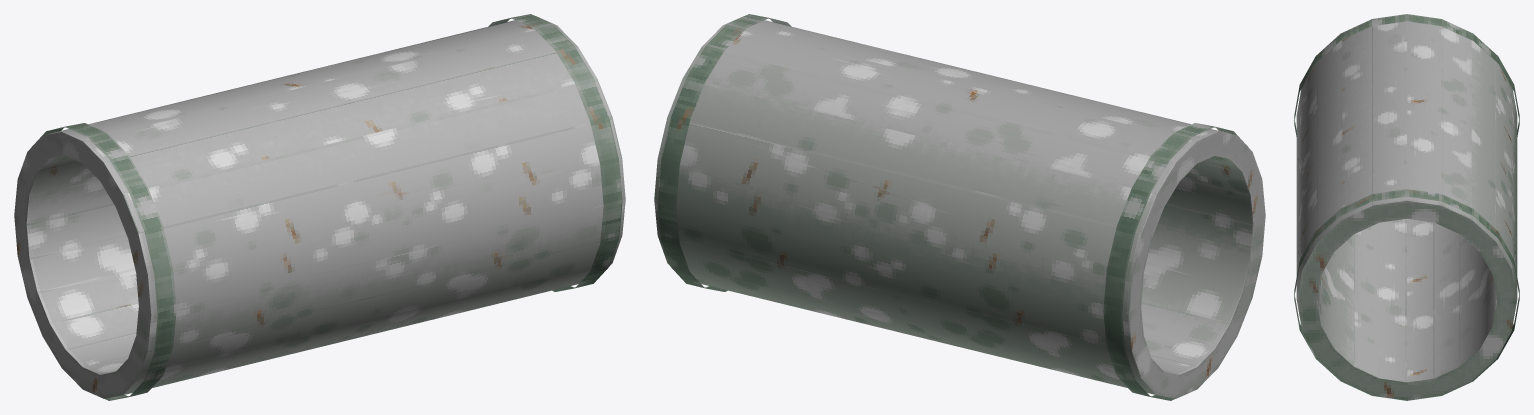
File: concrete_pipe.glb
The picture shows the model from 3 angles, left to right: view 1: azimuth 30°, elevation 25°; view 2: azimuth 150°, elevation 25°; view 3: azimuth 270°, elevation 25°; orthographic projection. The views are drawn at different scales.
Parts seen in each view (by area): view 1: mesh; view 2: mesh; view 3: mesh.
Boxes of the visible parts, box(x1,y1,x2,y2) form: mesh: box(14, 14, 625, 400); mesh: box(654, 14, 1265, 400); mesh: box(1294, 14, 1519, 400).
Bounding box in the file's own units: 2 × 1.02 × 1.02.
Materials: 1 (1 with a texture image).
